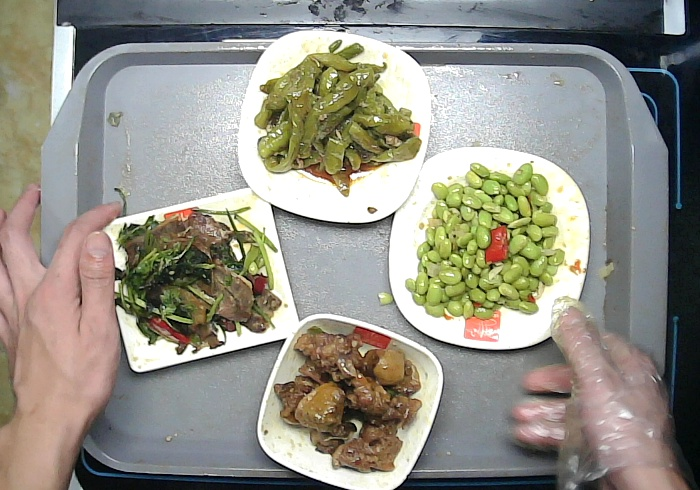SHKJ-Bai_Se_Cai_Die: (235, 29, 434, 227)
SHKJ-Bai_Se_Si_Fang_Cai_Die: (385, 145, 591, 353)
SHKJ-Bai_Se_Xiao_Fang_Die: (255, 311, 447, 490)
SHKJ-Si_Fang_Min: (98, 186, 302, 374)
